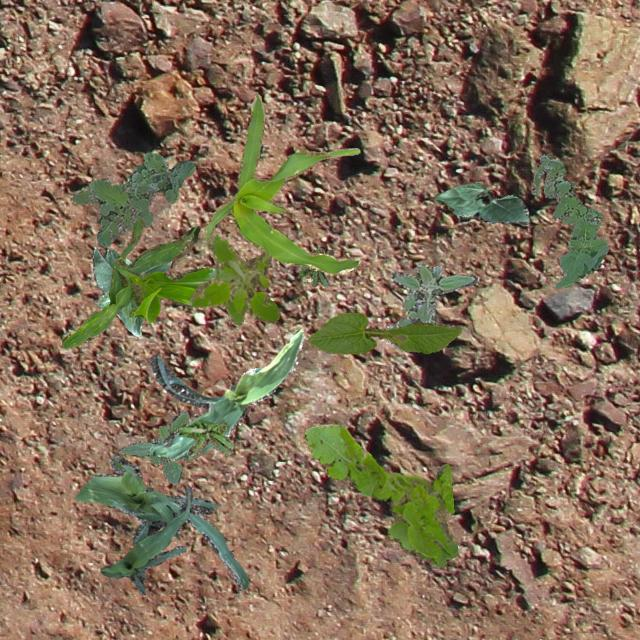crop: (204, 91, 358, 272), (72, 454, 248, 588), (148, 328, 304, 458), (62, 218, 216, 346), (100, 484, 192, 594), (91, 246, 170, 336), (306, 310, 461, 352), (434, 182, 528, 224)
weed: (304, 422, 456, 566), (72, 150, 194, 247), (530, 152, 608, 286), (188, 233, 278, 324), (384, 262, 476, 348), (120, 409, 188, 484), (178, 418, 234, 458), (294, 248, 332, 286)
